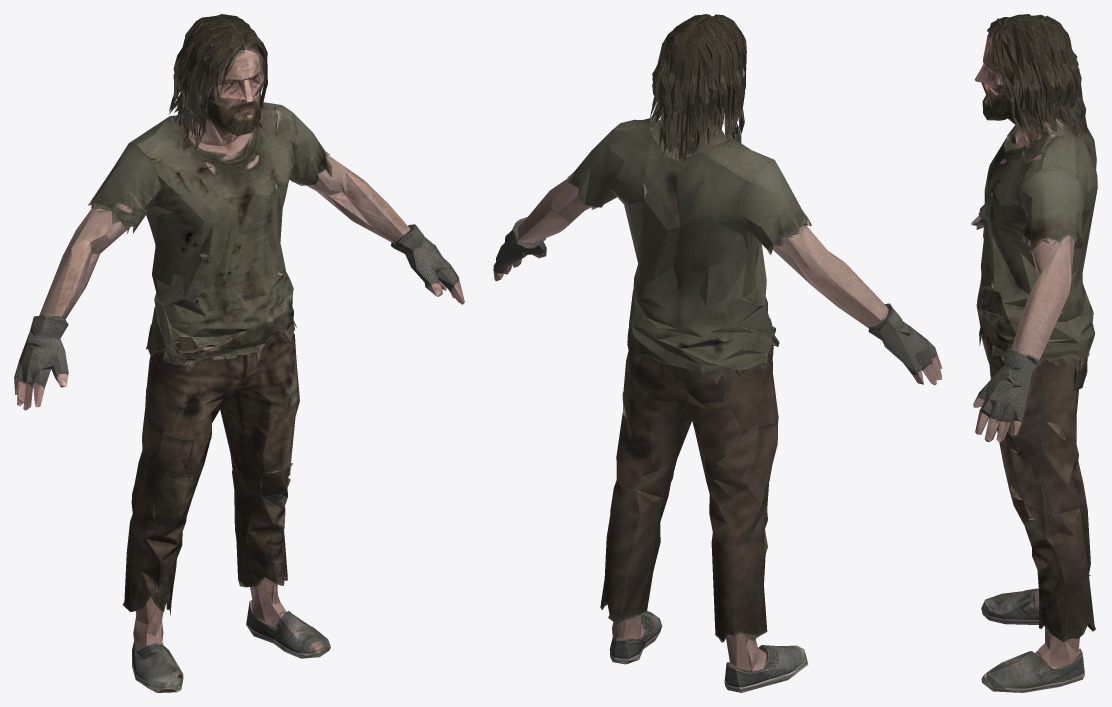
Rendered from image3d.glb.
3 renders of one model, left to right at view 1: azimuth 30°, elevation 25°; view 2: azimuth 150°, elevation 25°; view 3: azimuth 270°, elevation 25°, orthographic.
Size of the model in its own units: 1.37 by 1.9 by 0.3436.
1 material, 1 textured.
